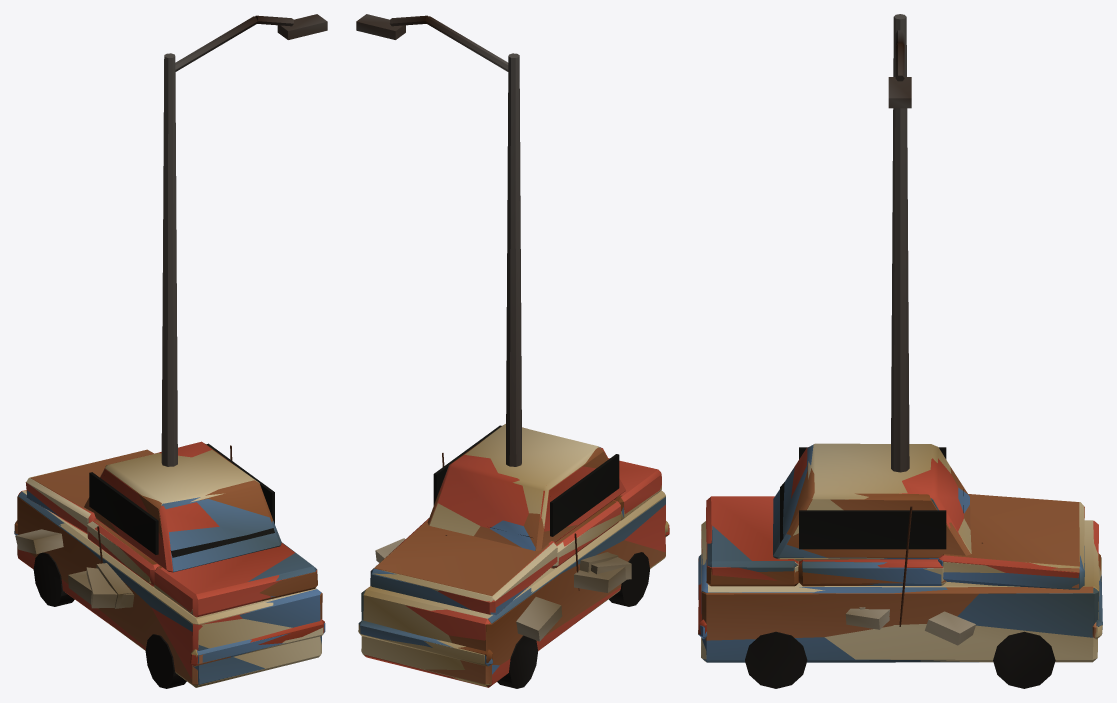
File: r2_superficie.glb
3 renders of one model, left to right at view 1: azimuth 30°, elevation 25°; view 2: azimuth 150°, elevation 25°; view 3: azimuth 270°, elevation 25°, orthographic. The views are drawn at different scales.
Visible parts, largest first — view 1: carro_vermelho, carro_bege, carro_ferrugem, carro_azul, poste_rua, entulho_r2; view 2: carro_ferrugem, carro_vermelho, carro_bege, poste_rua, carro_azul, entulho_r2; view 3: carro_ferrugem, carro_azul, carro_bege, carro_vermelho, poste_rua, entulho_r2.
Part boxes in pixels (x1,y1,x2,y2): carro_vermelho: (18,441,324,688); carro_bege: (17,450,323,687); carro_ferrugem: (14,443,322,684); carro_azul: (14,484,325,688); poste_rua: (161,14,327,466); entulho_r2: (15,529,134,608); carro_ferrugem: (364,427,665,684); carro_vermelho: (364,425,669,688); carro_bege: (358,424,668,687); poste_rua: (356,14,521,466); carro_azul: (358,446,665,684); entulho_r2: (375,535,631,641); carro_ferrugem: (698,449,1100,659); carro_azul: (698,444,1102,662); carro_bege: (698,443,1102,662); carro_vermelho: (698,447,1098,688); poste_rua: (888,14,911,472); entulho_r2: (845,542,982,645).
Bounding box in the file's own units: 3.49 × 7.88 × 4.4.
